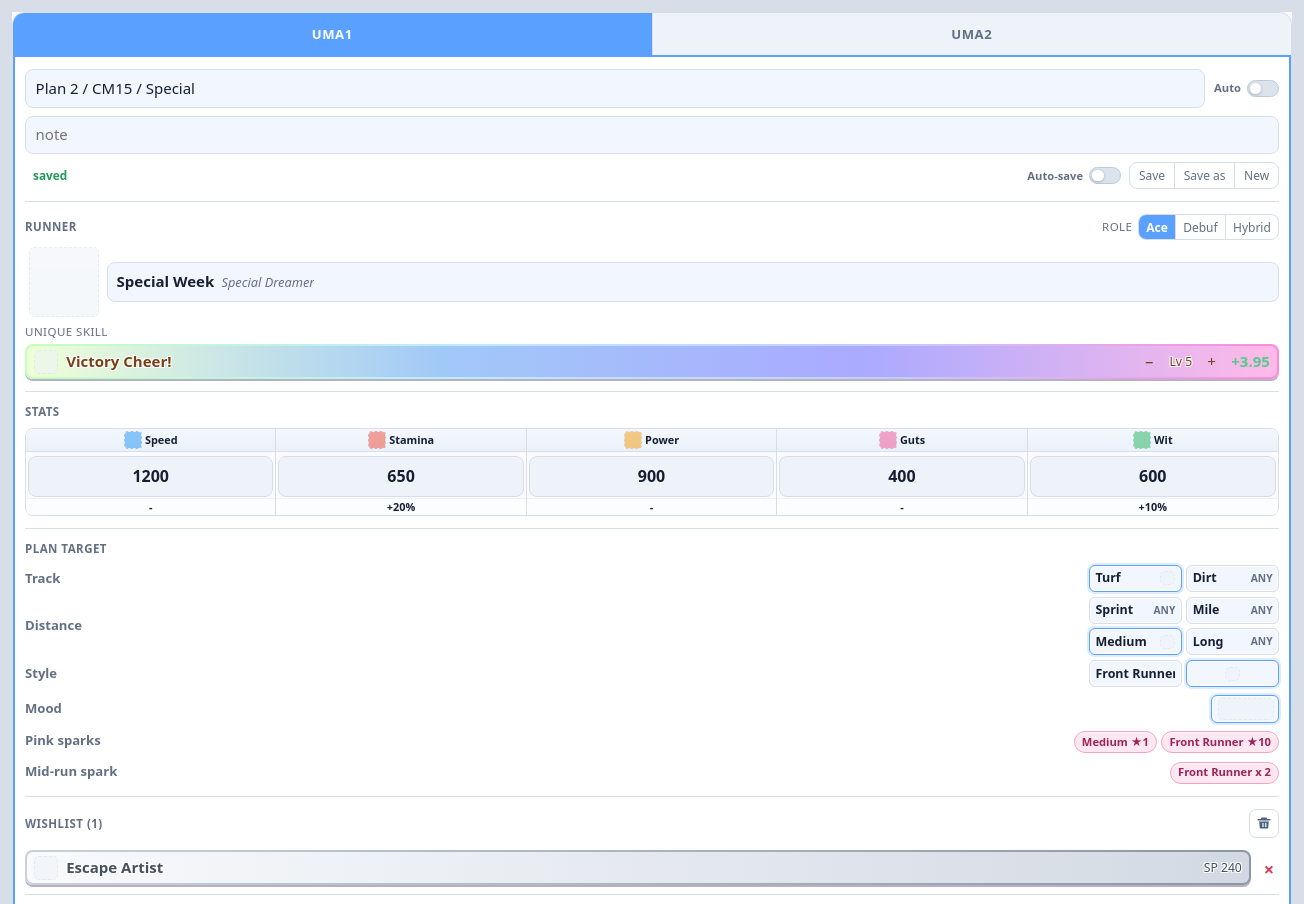
it: PlannerSidebar › shows an honest empty state when runtime skill detail is missing
This screenshot has width=1304, height=904.
Click the text "Victory Cheer!" at x=119, y=362, box [66,351,172,373]
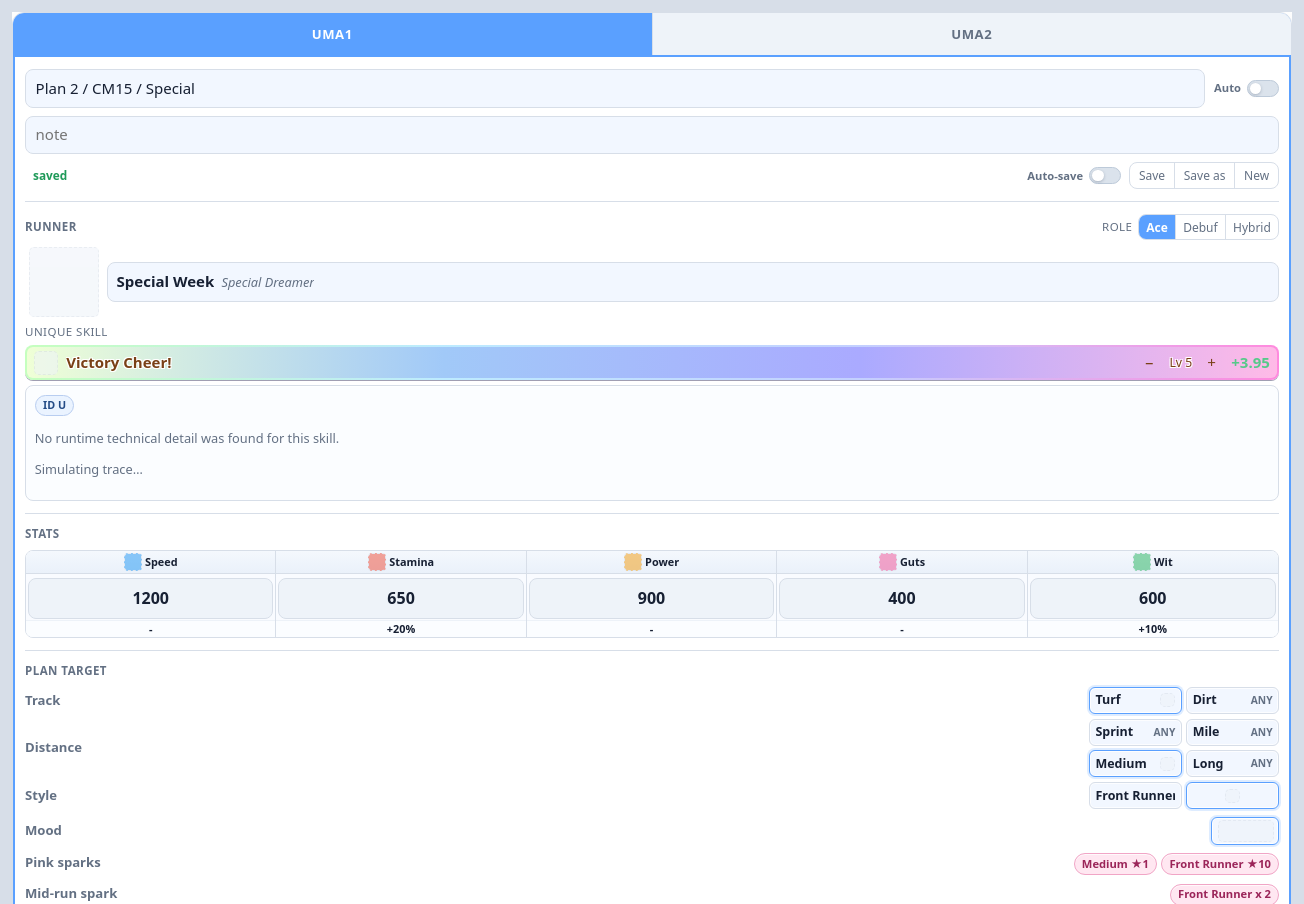
Check: the text "No runtime technical detail was found for this skill." is shown, box [35,429,339,447]
